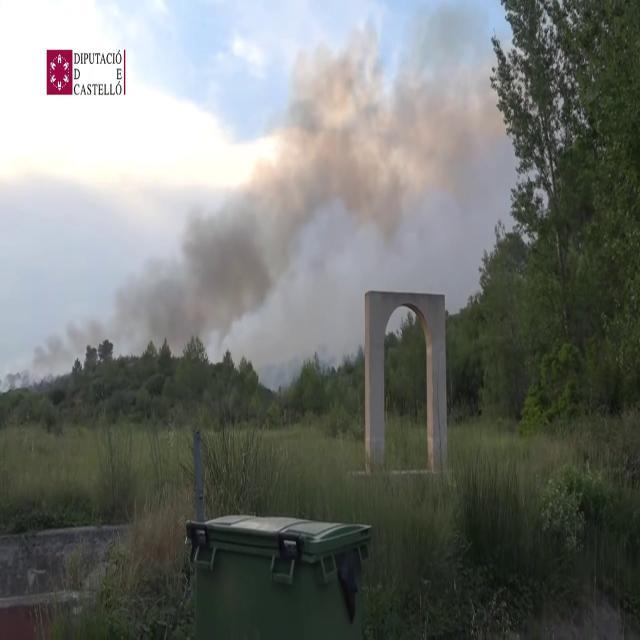Smoke: (130, 14, 472, 366)
